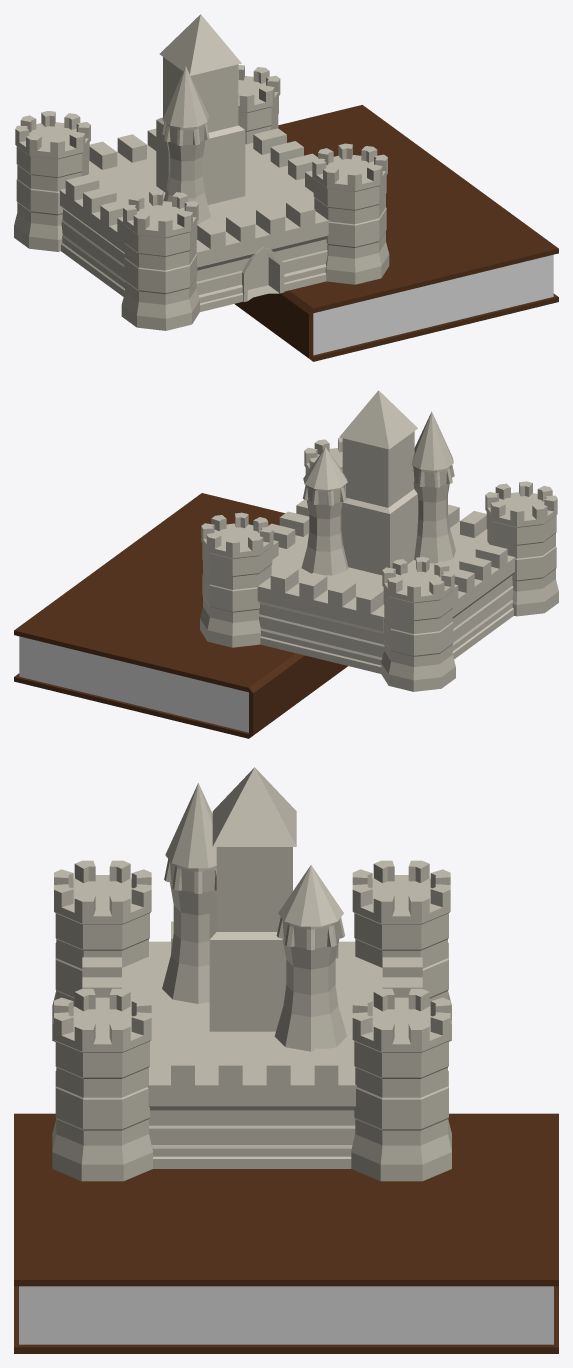
Rendered from game-entry.glb.
3 renders of one model, top to bottom at view 1: azimuth 30°, elevation 25°; view 2: azimuth 150°, elevation 25°; view 3: azimuth 270°, elevation 25°, orthographic. The views are drawn at different scales.
Visible parts, largest first — view 1: Front Cover, Front Wall, SW Tower, SE Tower, NW Tower, Keep, East Wall.001, Courtyard, Back Page Block, Front Page Block, Greater Tower, Spine (+6 smaller); view 2: Front Cover, East Wall.002, Keep, NW Tower, NE Tower, SW Tower, East Wall.001, Back Page Block, Front Page Block, Spine, Greater Tower.001, Greater Tower (+8 smaller); view 3: Front Cover, East Wall, NE Tower, SE Tower, Back Page Block, Front Page Block, Keep, Courtyard, NW Tower, SW Tower, Greater Tower.001, Back Cover (+7 smaller).
Boxes of the visible parts, x1,y1,x2,y2 form: Front Cover: (278, 105, 558, 313); Front Wall: (196, 199, 329, 311); SW Tower: (121, 189, 199, 330); SE Tower: (312, 143, 389, 284); NW Tower: (14, 111, 90, 251); Keep: (156, 57, 245, 204); East Wall.001: (59, 174, 128, 296); Courtyard: (88, 144, 314, 231); Back Page Block: (313, 275, 553, 355); Front Page Block: (313, 254, 553, 333); Greater Tower: (162, 122, 210, 223); Spine: (235, 290, 313, 361); Front Cover: (14, 493, 295, 692); East Wall.002: (257, 566, 384, 673); Keep: (341, 431, 418, 575); NW Tower: (381, 557, 455, 691); NE Tower: (200, 512, 273, 647); SW Tower: (485, 481, 558, 616); East Wall.001: (449, 543, 515, 659); Back Page Block: (19, 655, 248, 732); Front Page Block: (19, 636, 248, 711); Spine: (249, 653, 347, 738); Greater Tower.001: (301, 484, 348, 575); Greater Tower: (412, 465, 455, 563); Front Cover: (14, 1113, 558, 1286); East Wall: (147, 1048, 356, 1168); NE Tower: (351, 988, 451, 1181); SE Tower: (52, 988, 152, 1181); Back Page Block: (19, 1314, 553, 1344); Front Page Block: (19, 1286, 553, 1314); Keep: (209, 847, 292, 1031); Courtyard: (122, 956, 382, 1068); NW Tower: (352, 860, 451, 1041); SW Tower: (52, 860, 151, 1041); Greater Tower.001: (274, 917, 346, 1051); Back Cover: (14, 1286, 558, 1353).
Bounding box in the file's own units: 3.24 × 2.26 × 2.77.
